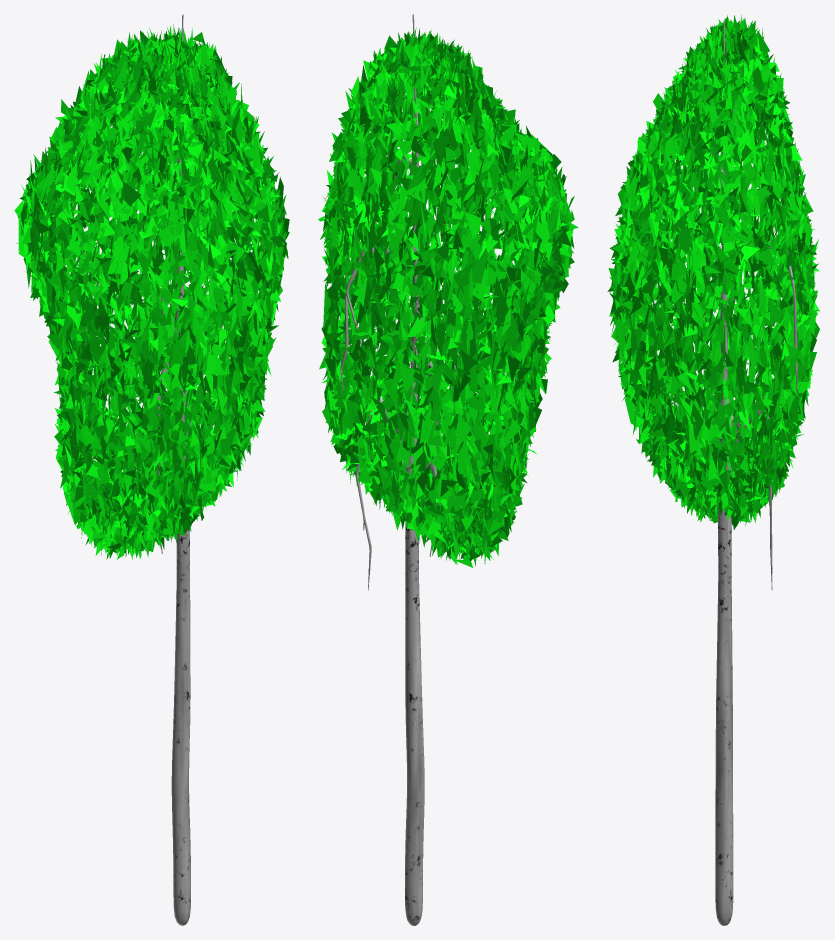
Rendered from Leaves11.002.fbx.
3 renders of one model, left to right at view 1: azimuth 30°, elevation 25°; view 2: azimuth 150°, elevation 25°; view 3: azimuth 270°, elevation 25°, orthographic.
Visible parts, largest first — view 1: Leaves11.002; view 2: Leaves11.002; view 3: Leaves11.002.
Part boxes in pixels (box(x1,y1,x2,y2)): Leaves11.002: box(14, 14, 289, 925); Leaves11.002: box(318, 14, 578, 925); Leaves11.002: box(607, 15, 819, 925).
Bounding box in the file's own units: 739 × 2574 × 550.
2 materials, 1 textured.
